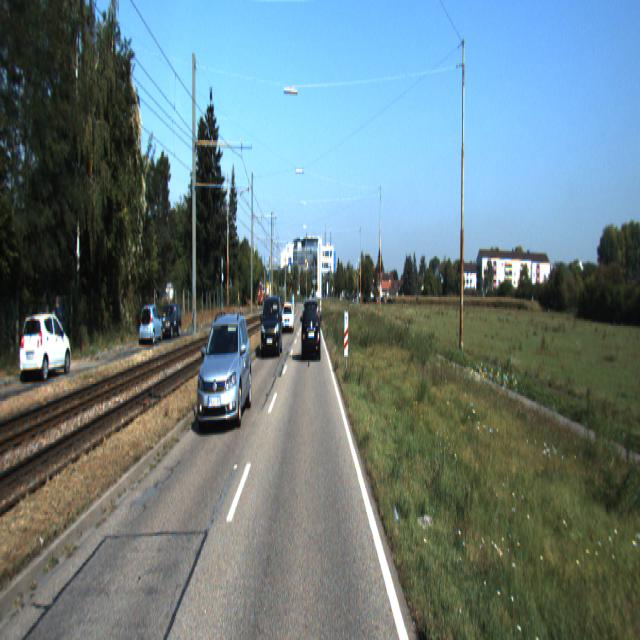Car: (197, 309, 253, 428), (20, 310, 72, 383), (261, 294, 283, 358), (302, 298, 322, 361), (139, 302, 163, 347), (159, 300, 183, 340), (282, 301, 294, 332)
